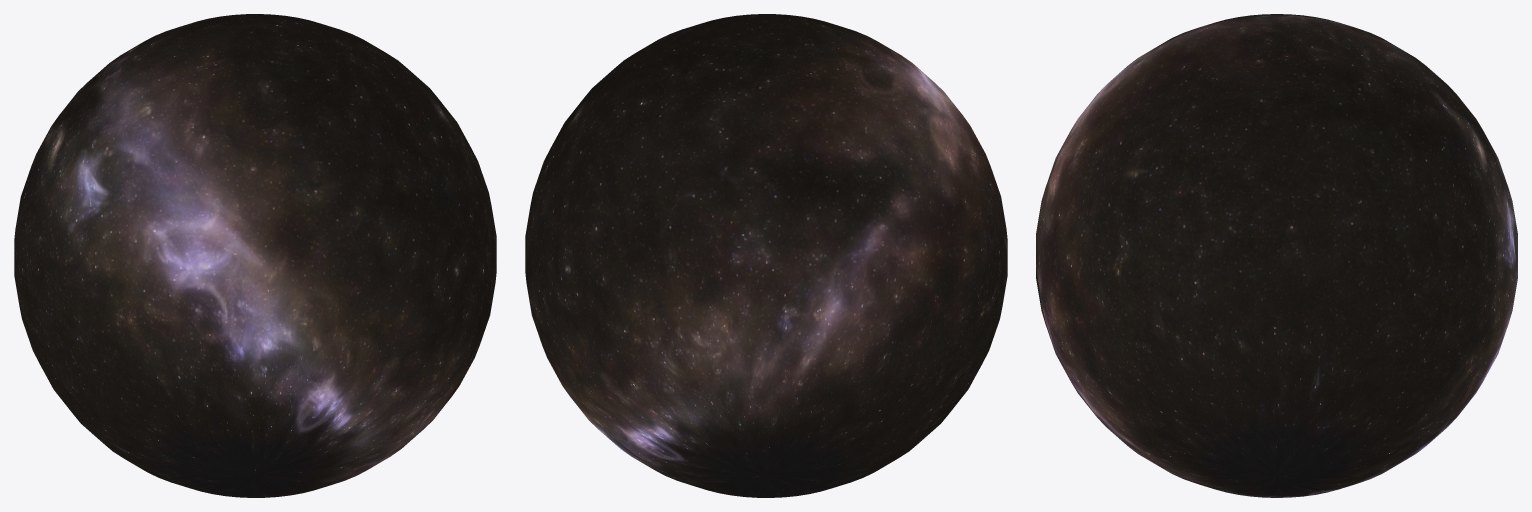
The model's file is sky_pano_-_milkyway.glb.
3 renders of one model, left to right at view 1: azimuth 30°, elevation 25°; view 2: azimuth 150°, elevation 25°; view 3: azimuth 270°, elevation 25°, orthographic.
Visible parts, largest first — view 1: PanoSphere; view 2: PanoSphere; view 3: PanoSphere.
Boxes of the visible parts, box(x1,y1,x2,y2) form: PanoSphere: box(14, 14, 496, 497); PanoSphere: box(525, 14, 1007, 497); PanoSphere: box(1036, 14, 1517, 497).
Size of the model in its own units: 1.99 by 2 by 1.99.
Materials: 1 (1 with a texture image).
